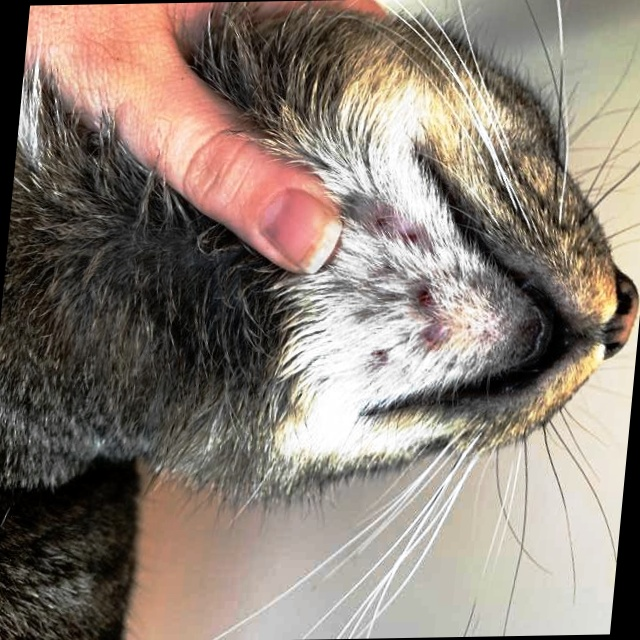acne: (332, 218, 457, 378)
